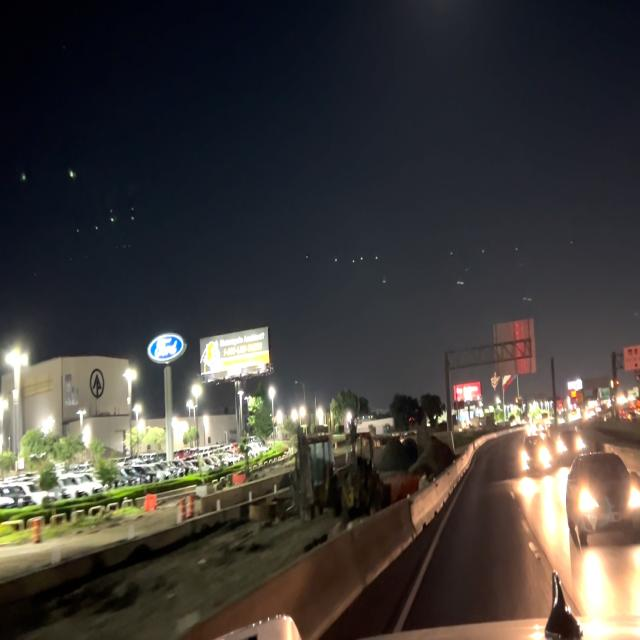back-of-sign: (489, 317, 538, 381)
